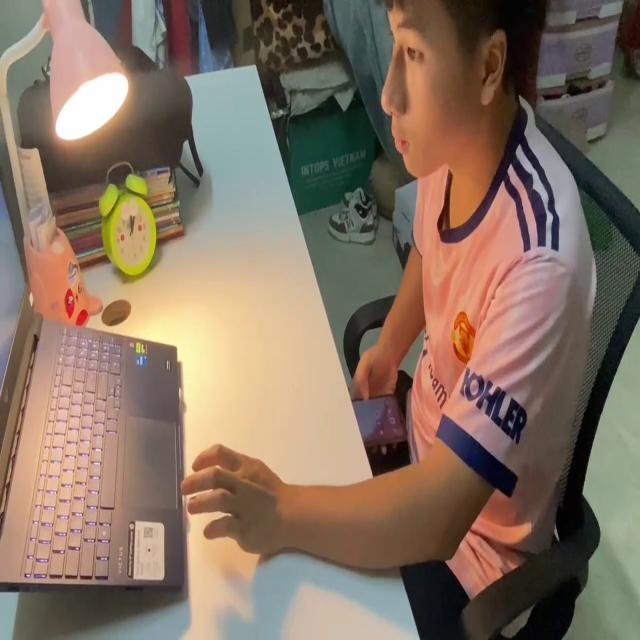laptop: (0, 170, 190, 603)
student: (180, 0, 596, 620)
